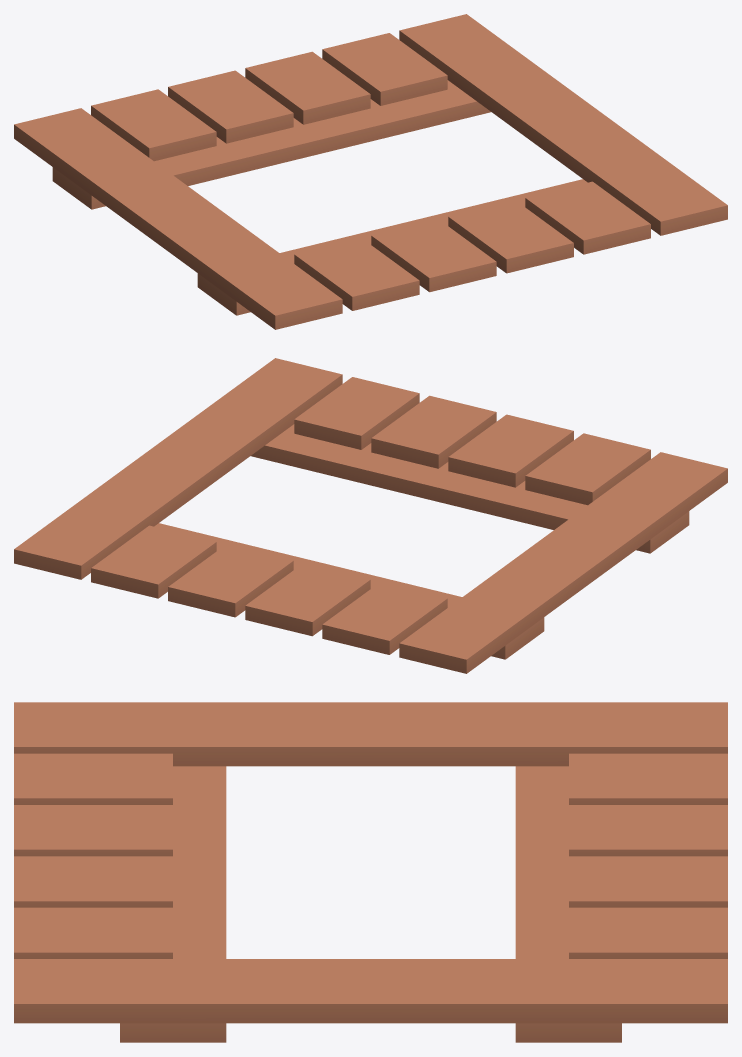
Rendered from kenney-fantasy-town-planks-opening.glb.
The picture shows the model from 3 angles, top to bottom: view 1: azimuth 30°, elevation 25°; view 2: azimuth 150°, elevation 25°; view 3: azimuth 270°, elevation 25°; orthographic projection. The views are drawn at different scales.
Parts seen in each view (by area): view 1: planks-opening; view 2: planks-opening; view 3: planks-opening.
Part boxes in pixels (bbox=[...]): planks-opening: bbox=[14, 14, 727, 329]; planks-opening: bbox=[14, 358, 727, 673]; planks-opening: bbox=[14, 702, 727, 1042].
Bounding box in the file's own units: 1 × 0.0599 × 1.
Materials: 1 (1 with a texture image).
